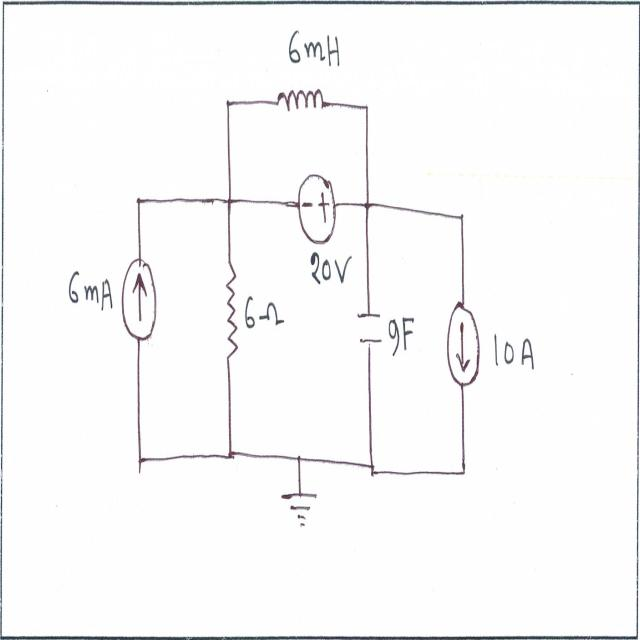capacitor: (354, 304, 386, 359)
current_source: (119, 251, 158, 355), (445, 294, 483, 391)
ground: (278, 487, 323, 537)
inductor: (275, 86, 332, 126)
resistor: (224, 246, 242, 375)
voltage_source: (297, 170, 339, 249)
